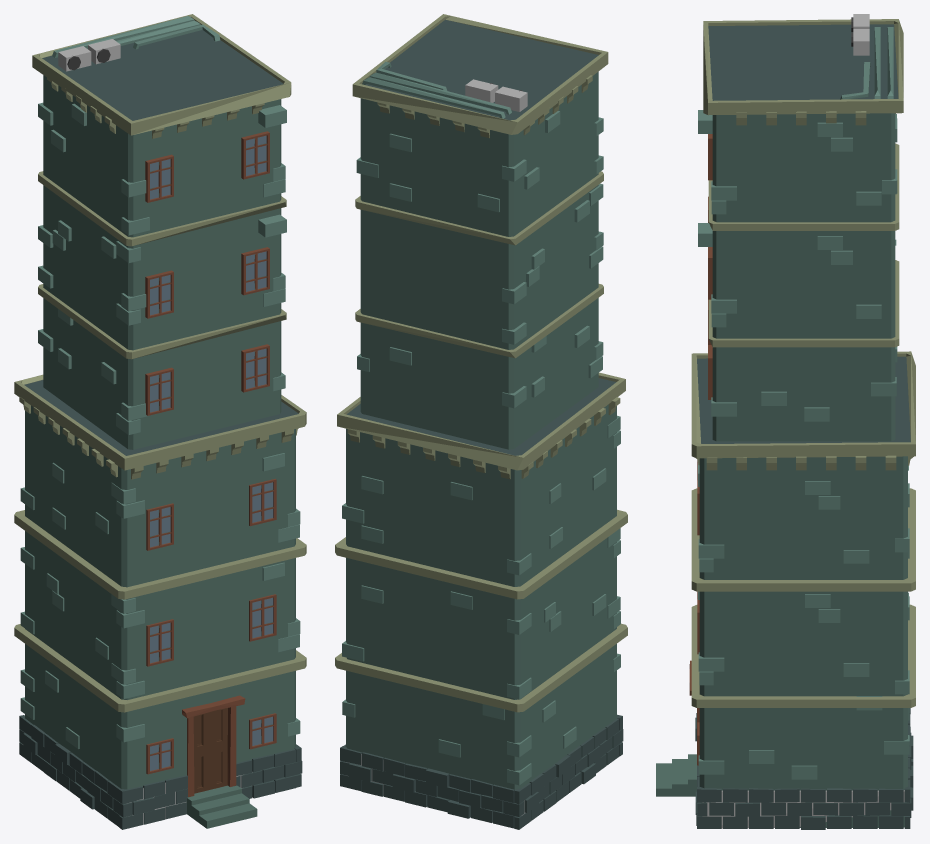
The model's file is b_6story_stack.glb.
The picture shows the model from 3 angles, left to right: view 1: azimuth 30°, elevation 25°; view 2: azimuth 150°, elevation 25°; view 3: azimuth 270°, elevation 25°; orthographic projection. The views are drawn at different scales.
Visible parts, largest first — view 1: 6Story_Stack_Mat; view 2: 6Story_Stack_Mat; view 3: 6Story_Stack_Mat.
Part boxes in pixels (x1,y1,x2,y2): 6Story_Stack_Mat: [14, 14, 306, 829]; 6Story_Stack_Mat: [335, 14, 627, 829]; 6Story_Stack_Mat: [656, 14, 915, 829].
Size of the model in its own units: 2.16 by 7.79 by 2.5.
